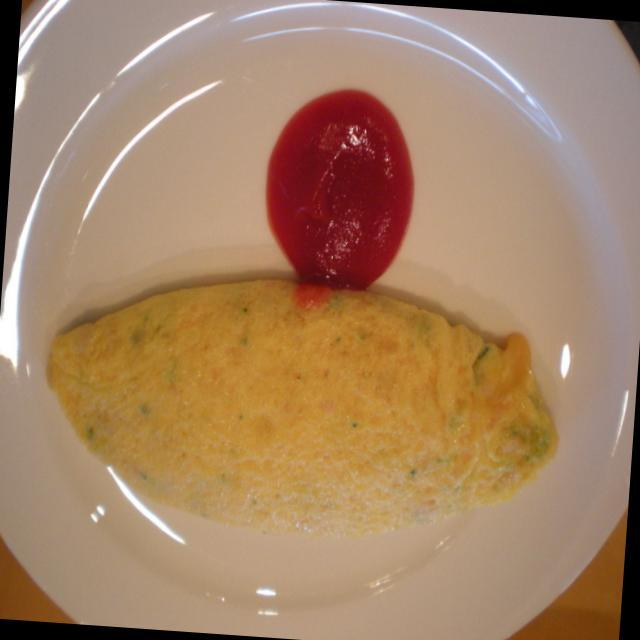Omelet: (12, 262, 600, 565)
